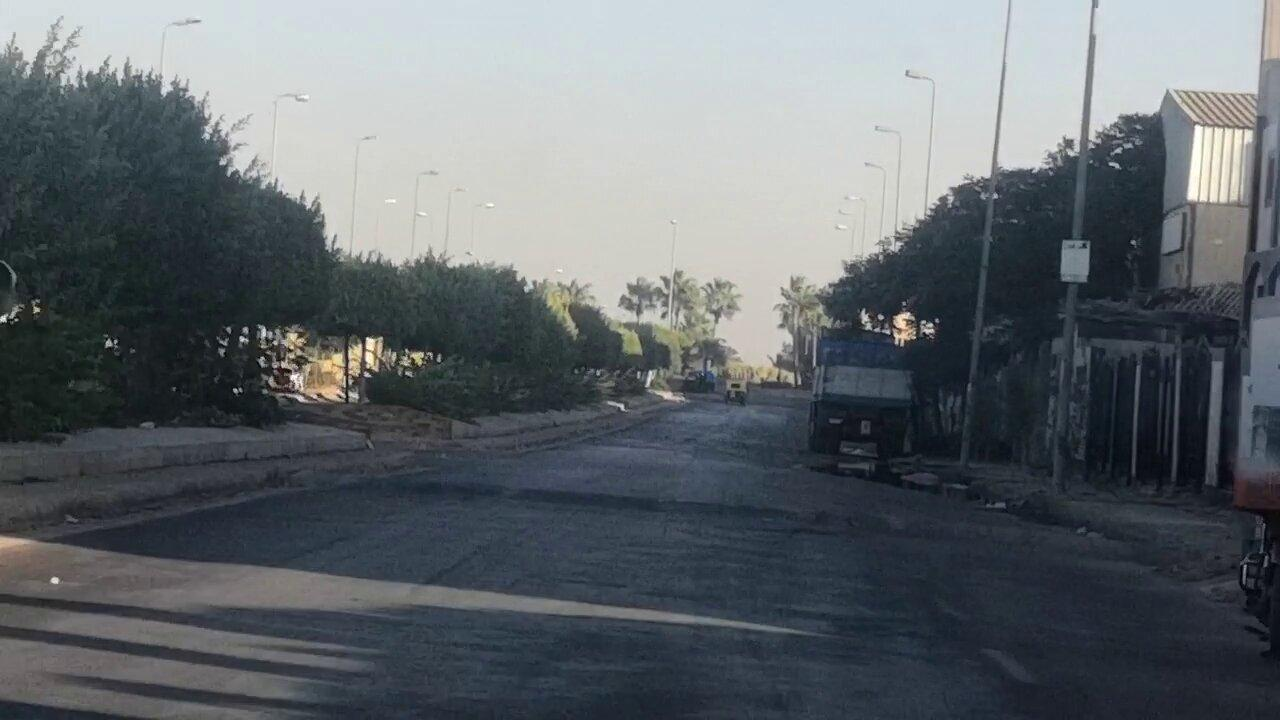Bump: (423, 467, 1113, 575)
